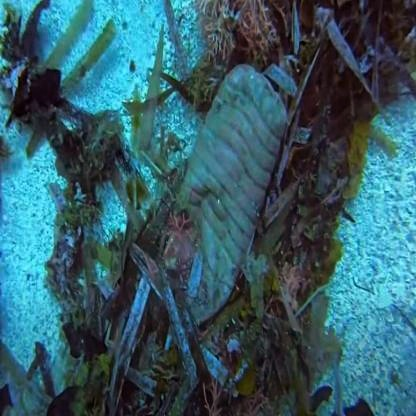pbottle: (160, 85, 283, 328)
